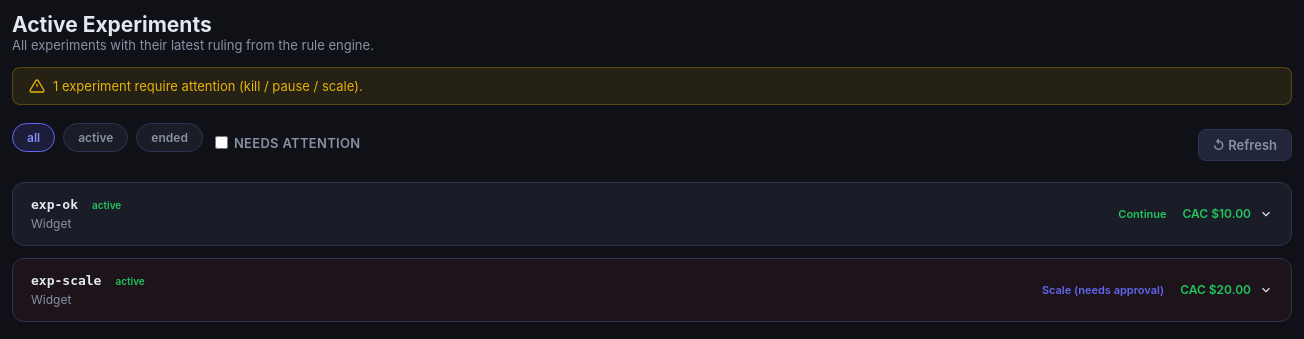
Test: ActiveExperiments lifecycle wiring › includes scale_requires_approval in attention filter
Click the checkbox labelled "Needs attention": (221, 142) top-left (215, 136), bottom-right (228, 149)
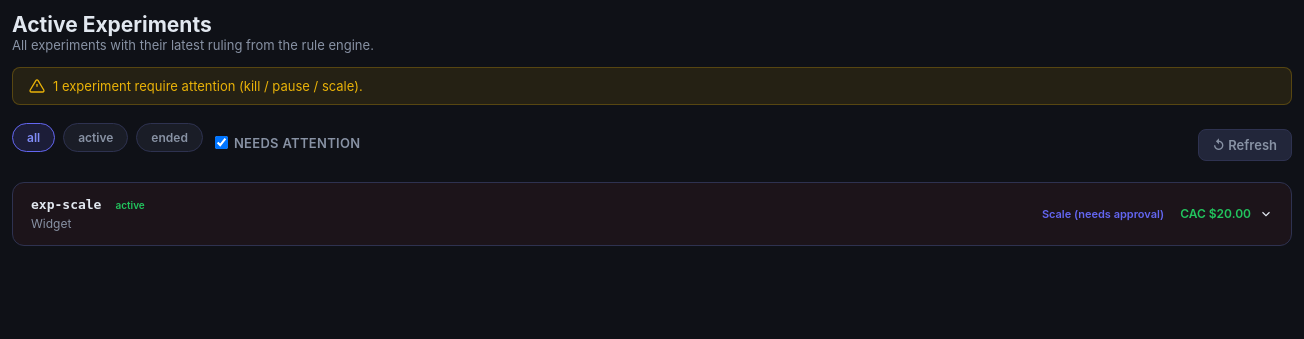
Expected: the text "exp-scale" is shown, top-left (31, 197), bottom-right (102, 212)
Expected: the text "exp-ok" is gone
